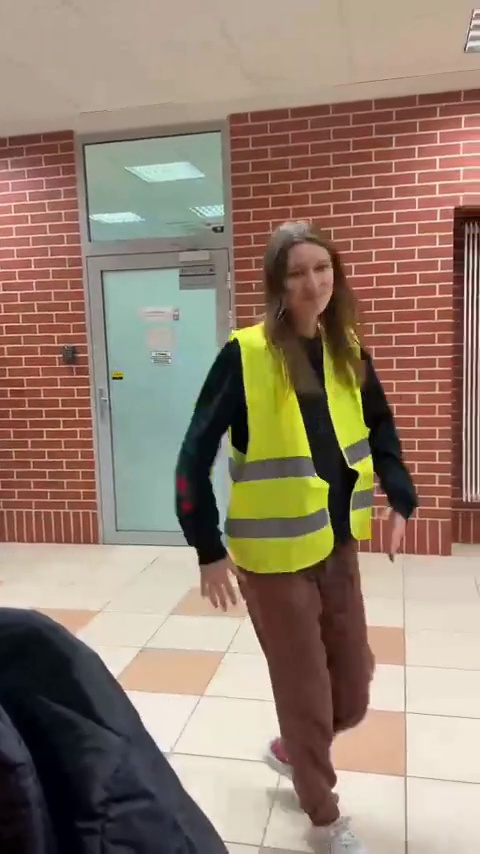vest: (207, 214, 426, 822)
